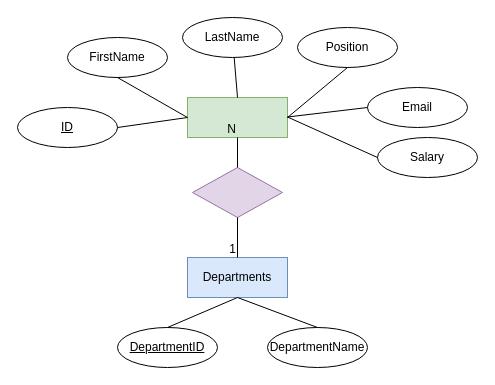
This 495x385 diagram has some shape labels left out. The shapes that lost their labels are listed below. From the top down, each one's centre as x and y in pixels, then its label:
At (237,117): "Employees".
At (237,192): "has".
